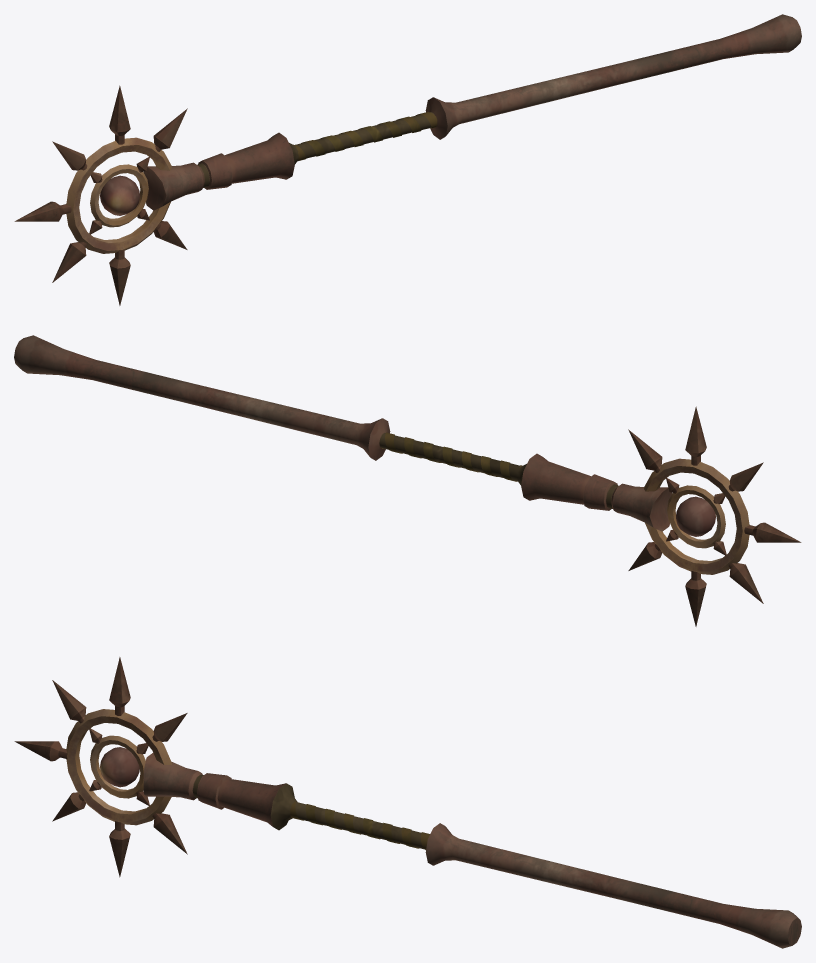
The model's file is staff.glb.
3 views of the same model, one above another, from view 1: azimuth 30°, elevation 25°; view 2: azimuth 150°, elevation 25°; view 3: azimuth 330°, elevation 25° (orthographic).
Visible parts, largest first — view 1: Cleric_Staff; view 2: Cleric_Staff; view 3: Cleric_Staff.
Boxes of the visible parts, x1=… form: Cleric_Staff: x1=14, y1=14, x2=801, y2=305; Cleric_Staff: x1=14, y1=335, x2=801, y2=626; Cleric_Staff: x1=14, y1=657, x2=801, y2=948.
Bounding box in the file's own units: 2.93 × 0.7957 × 0.158.
Materials: 1 (1 with a texture image).
